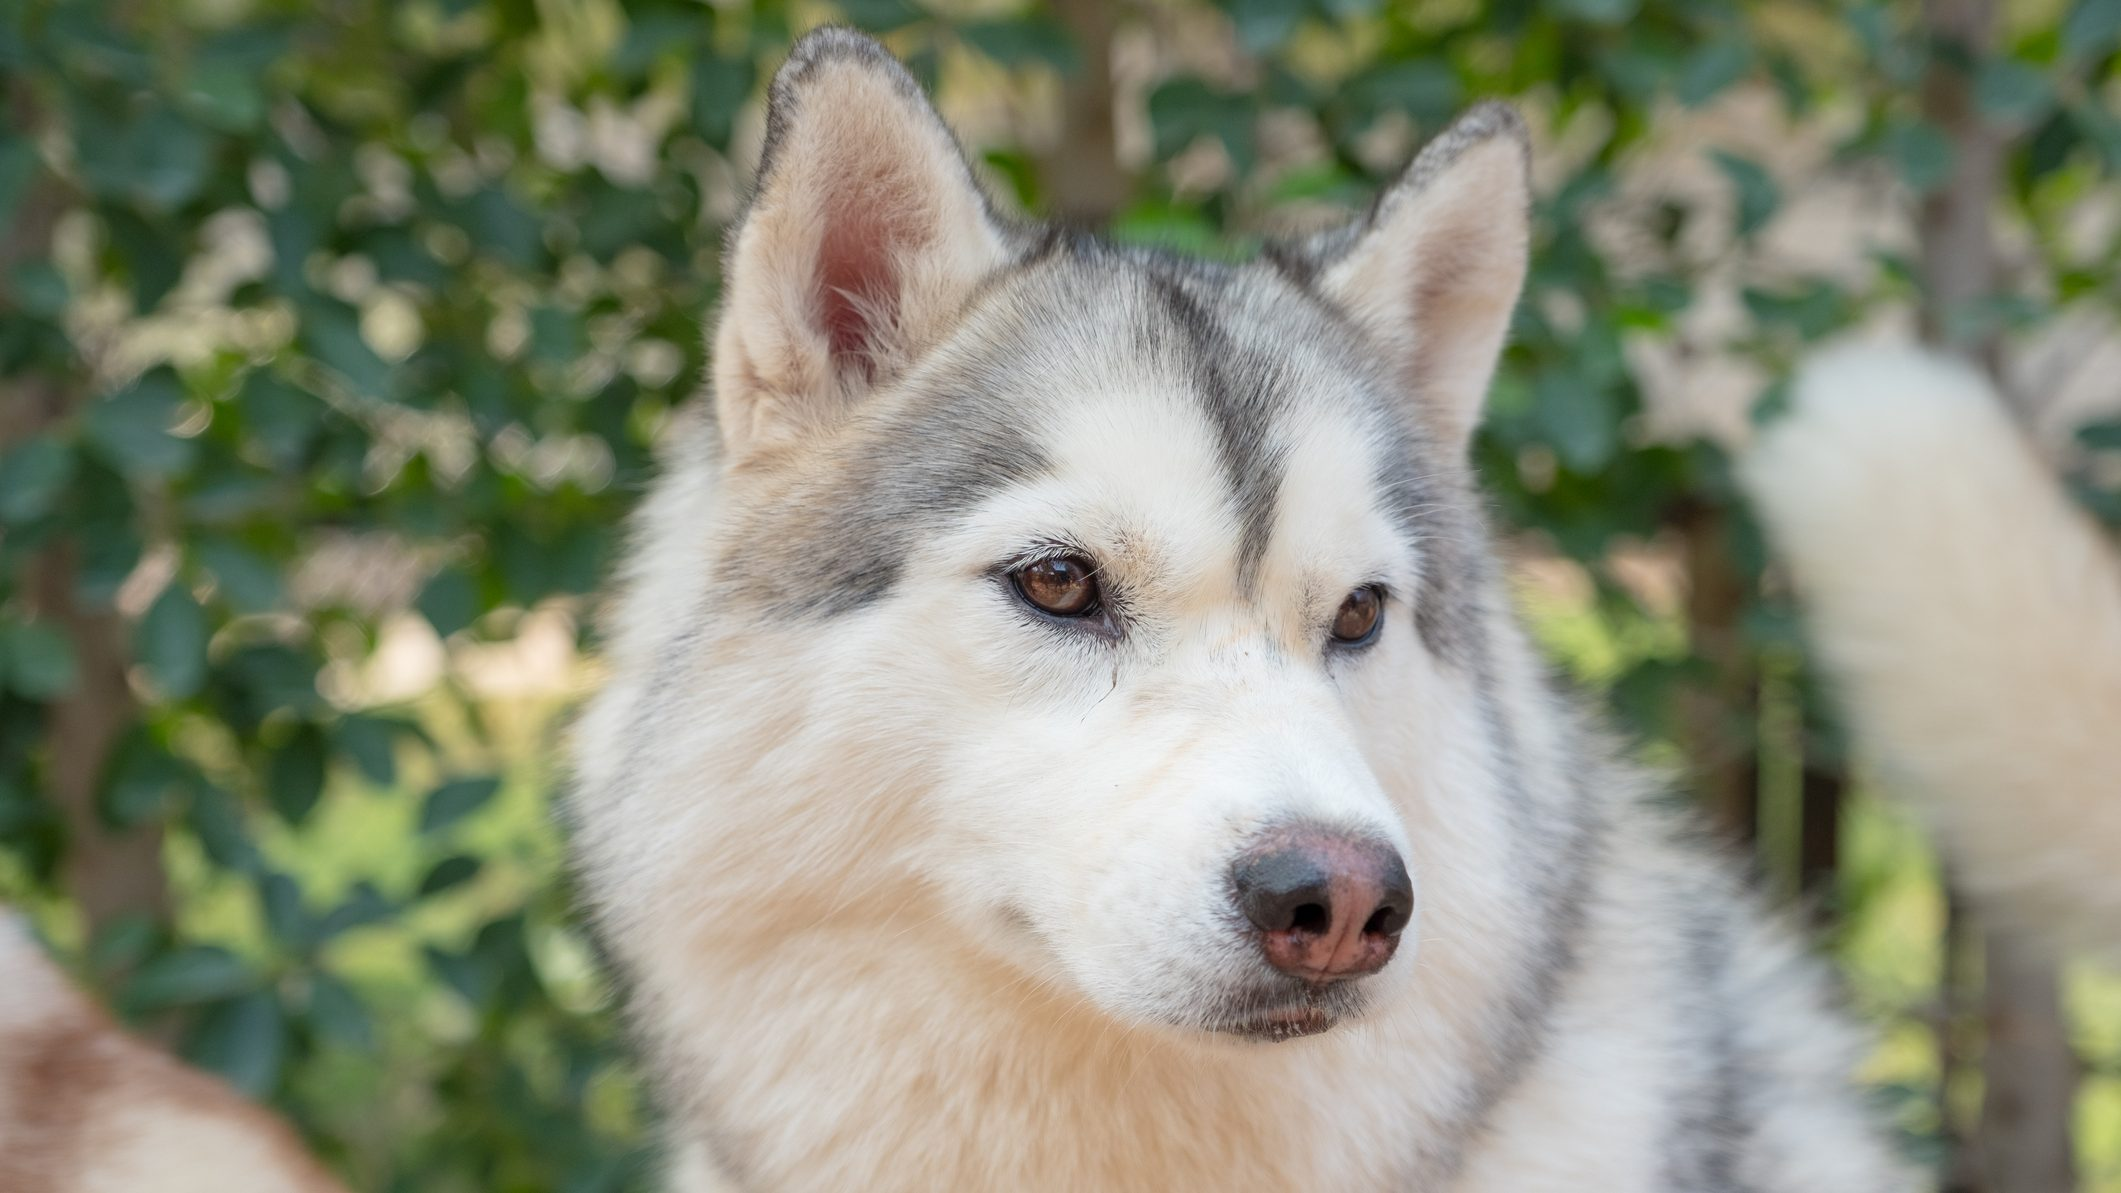Lobo: (554, 35, 1779, 1138)
